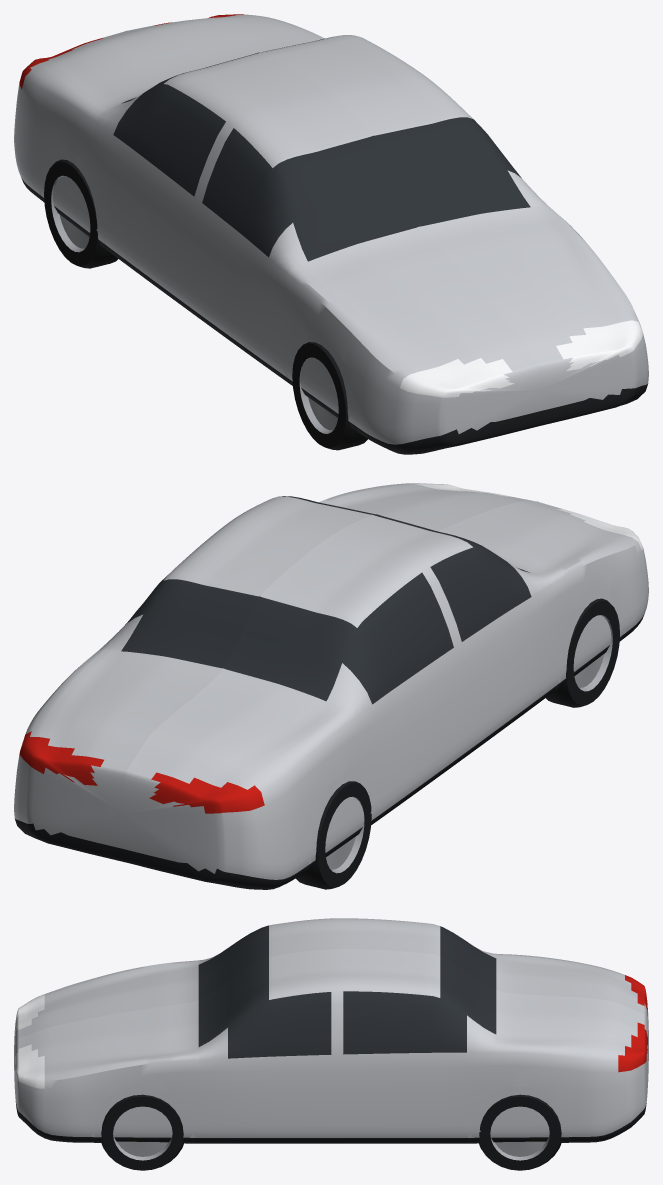
File: sedan.glb
The picture shows the model from 3 angles, top to bottom: view 1: azimuth 30°, elevation 25°; view 2: azimuth 150°, elevation 25°; view 3: azimuth 270°, elevation 25°; orthographic projection. The views are drawn at different scales.
Parts seen in each view (by area): view 1: sedan; view 2: sedan; view 3: sedan.
Part boxes in pixels (<box>): sedan: <box>14,14,648,454</box>; sedan: <box>14,483,648,889</box>; sedan: <box>14,918,648,1170</box>.
Bounding box in the file's own units: 1.82 × 1.44 × 4.78.
